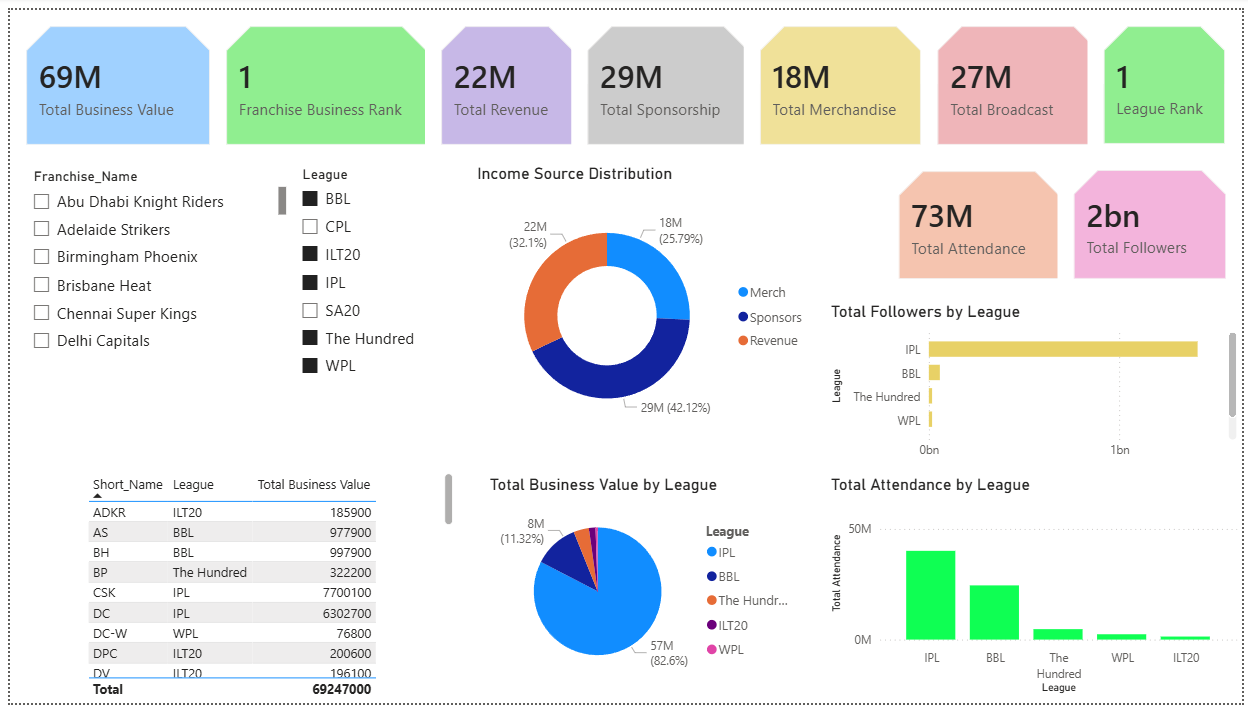

This screenshot's page, from the dashboard's own definition file:
{"tool":"powerbi","page":{"name":"Cross Fact","canvas":[1280,720],"ordinal":7},"visuals":[{"type":"cardVisual","fields":{"Data":["attendance_fact.Total Business Value"]},"box":[0,0,225,157.5],"z":0},{"type":"slicer","fields":{"Values":["franchise_dimen.Franchise_Name"]},"box":[11.4,160,280,210],"z":1000},{"type":"slicer","fields":{"Values":["league_dimen.League"]},"box":[291.4,157.1,280,280],"z":2000},{"type":"cardVisual","fields":{"Data":["attendance_fact.Franchise Business Rank"]},"box":[207.5,0,242.5,157.5],"z":3000},{"type":"donutChart","title":"Income Source Distribution","fields":{"Y":["attendance_fact.Total Merchandise","attendance_fact.Total Sponsorship","attendance_fact.Total Revenue"]},"box":[480,160,356.9,296.9],"z":4000},{"type":"tableEx","fields":{"Values":["franchise_dimen.Short_Name","league_dimen.League","attendance_fact.Total Business Value"]},"box":[75.7,477.1,390,242.9],"z":5000},{"type":"pieChart","fields":{"Category":["league_dimen.League"],"Y":["attendance_fact.Total Business Value"]},"box":[492.9,482.9,331.4,222.9],"z":6000},{"type":"clusteredColumnChart","fields":{"Y":["attendance_fact.Total Attendance"],"Category":["league_dimen.League"]},"box":[848,483,432,232],"z":7000},{"type":"barChart","fields":{"Category":["league_dimen.League"],"Y":["attendance_fact.Total Followers"]},"box":[848.6,302.9,431.4,172.9],"z":8000},{"type":"cardVisual","fields":{"Data":["attendance_fact.Total Revenue"]},"box":[431.2,0,171.2,157.5],"z":9000},{"type":"cardVisual","fields":{"Data":["attendance_fact.Total Sponsorship"]},"box":[583.8,0,201.2,157.5],"z":10000},{"type":"cardVisual","fields":{"Data":["attendance_fact.Total Merchandise"]},"box":[762.5,0,201.2,157.5],"z":11000},{"type":"cardVisual","fields":{"Data":["attendance_fact.Total Broadcast"]},"box":[946.2,0,201.2,157.5],"z":12000},{"type":"cardVisual","fields":{"Data":["attendance_fact.Total Attendance"]},"box":[906.2,150.8,201.5,146.2],"z":13000},{"type":"cardVisual","fields":{"Data":["attendance_fact.Total Followers"]},"box":[1087.7,149.2,192.3,147.7],"z":14000},{"type":"cardVisual","fields":{"Data":["attendance_fact.League Rank"]},"box":[1120,0,160,156.9],"z":15000}]}

Visuals, with their boxes in screenshot pixels (x1, y1, x2, y2), scaled from the page's 1280x720 canvas onto the 1248x711 screenshot:
cardVisual - attendance_fact.Total Business Value: rect(0, 0, 219, 156)
slicer - franchise_dimen.Franchise_Name: rect(11, 158, 284, 365)
slicer - league_dimen.League: rect(284, 155, 557, 432)
cardVisual - attendance_fact.Franchise Business Rank: rect(202, 0, 439, 156)
"Income Source Distribution" donutChart: rect(468, 158, 816, 451)
tableEx - franchise_dimen.Short_Name x league_dimen.League: rect(74, 471, 454, 710)
pieChart - league_dimen.League x attendance_fact.Total Business Value: rect(481, 477, 804, 697)
clusteredColumnChart - attendance_fact.Total Attendance x league_dimen.League: rect(827, 477, 1247, 706)
barChart - league_dimen.League x attendance_fact.Total Followers: rect(827, 299, 1247, 470)
cardVisual - attendance_fact.Total Revenue: rect(420, 0, 587, 156)
cardVisual - attendance_fact.Total Sponsorship: rect(569, 0, 765, 156)
cardVisual - attendance_fact.Total Merchandise: rect(743, 0, 940, 156)
cardVisual - attendance_fact.Total Broadcast: rect(923, 0, 1119, 156)
cardVisual - attendance_fact.Total Attendance: rect(884, 149, 1080, 293)
cardVisual - attendance_fact.Total Followers: rect(1061, 147, 1247, 293)
cardVisual - attendance_fact.League Rank: rect(1092, 0, 1247, 155)
